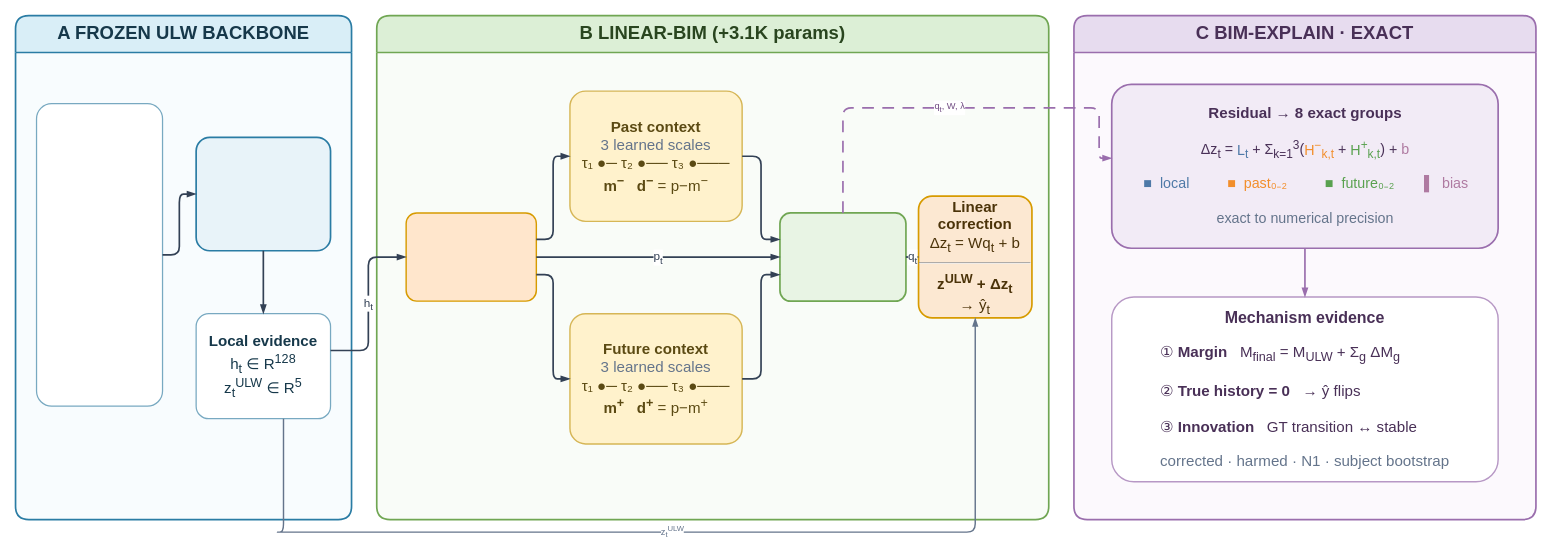
This 1551x554 diagram has some shape labels left out. Here are the shapes that lost their labels. From the top down, the centre of each, then its label:
(x=263, y=193): ULW-SleepNet channel-shared DSSC frozen
(x=99, y=254): PSG epoch sequence ∿╲╱∿∿╲╱∿ t−2 t−1 t t+1 t+2 ■ EEG ■ EOG ■ EMG
(x=471, y=256): Projection 128 → 16 p t = tanh(W p h t )
(x=842, y=257): Temporal vector q t ∈ R 208 [ p | m ± | d ± ]
